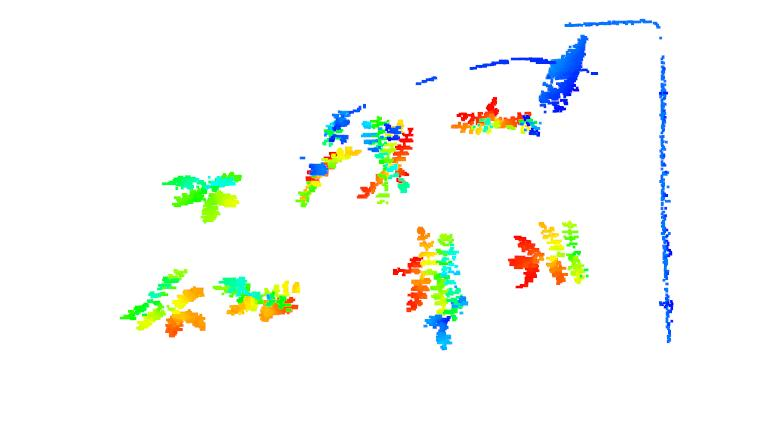chickpea: (390, 225, 470, 352), (120, 266, 210, 338), (508, 219, 589, 293), (355, 119, 415, 202), (213, 272, 303, 325), (161, 167, 241, 225), (293, 143, 359, 209), (452, 96, 535, 140)
